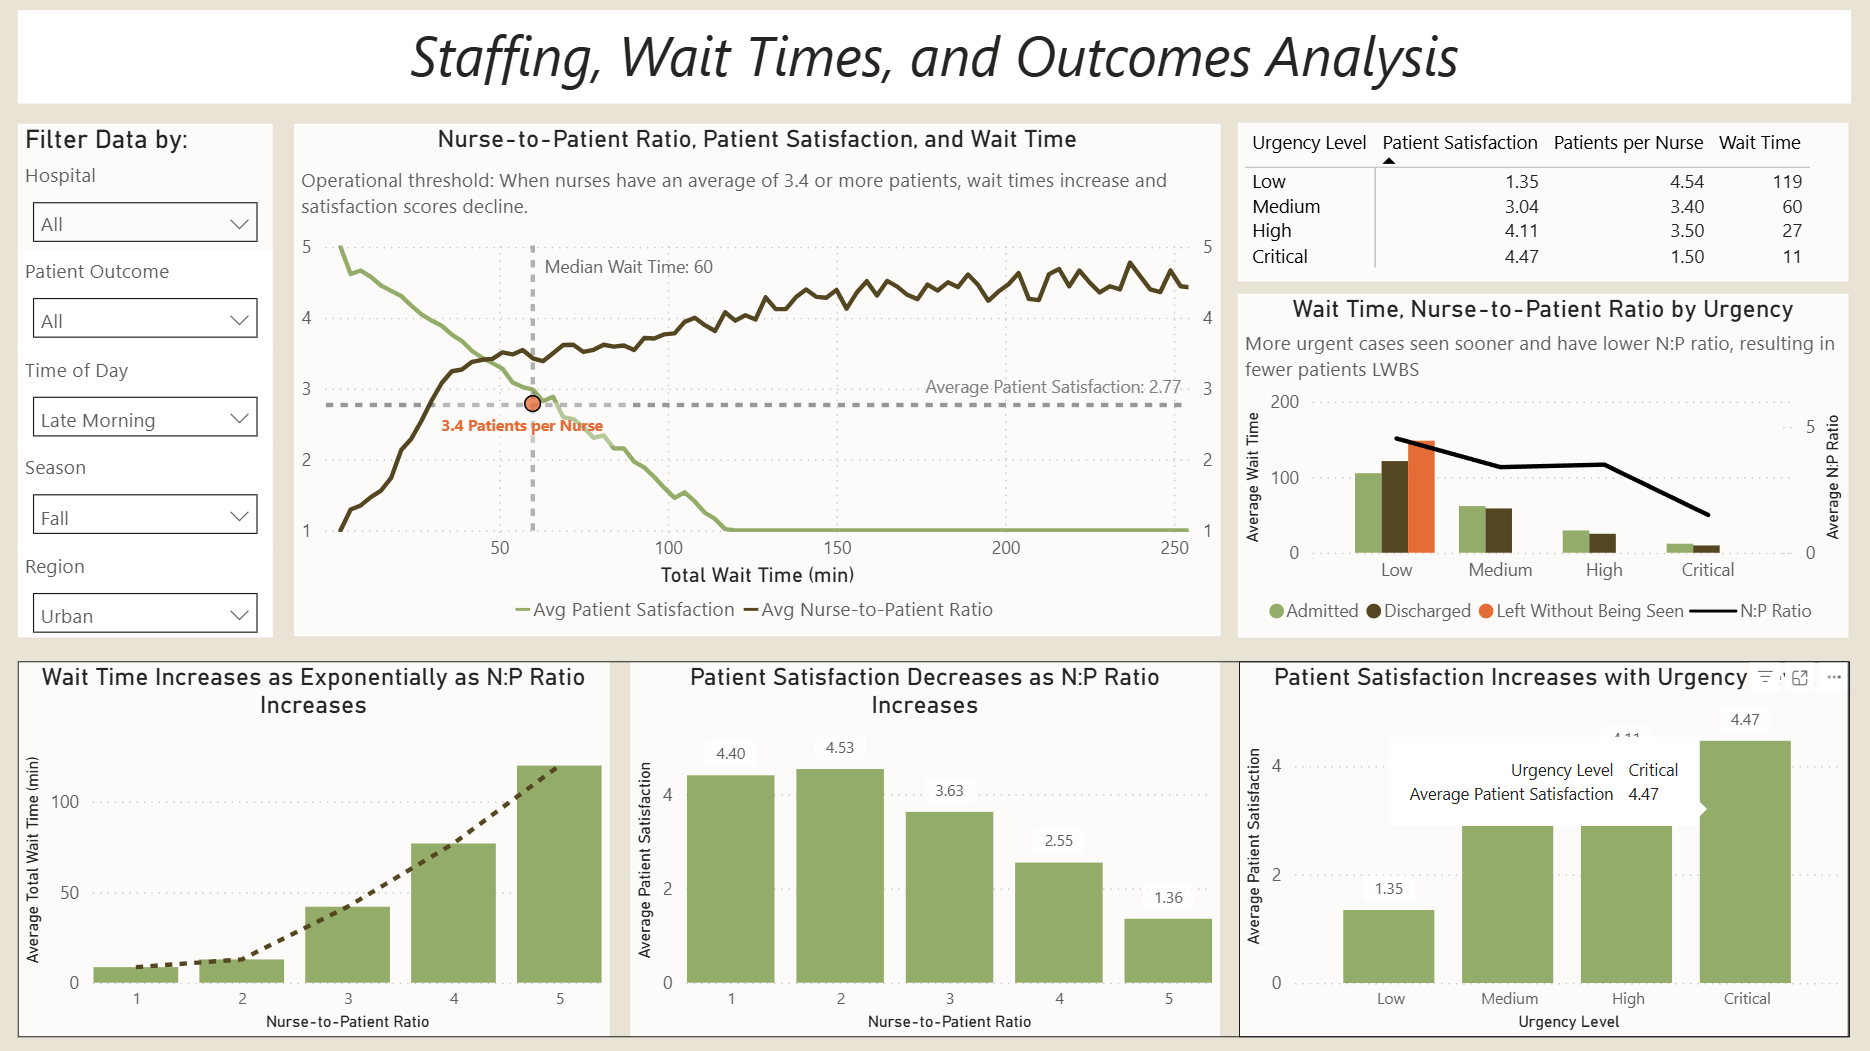

This screenshot's page, from the dashboard's own definition file:
{"tool":"powerbi","page":{"name":"Analysis","canvas":[1280,720],"ordinal":1},"visuals":[{"type":"lineClusteredColumnComboChart","title":"Wait Time, Nurse-to-Patient  Ratio by Urgency","fields":{"Category":["ER Wait Time Dataset.Urgency Level"],"Y":["Avg(ER Wait Time Dataset.Total Wait Time (min))"],"Series":["ER Wait Time Dataset.Patient Outcome"],"Y2":["Avg(ER Wait Time Dataset.Patients per Nurse)"]},"box":[847.1,200.7,417.6,235.3],"z":0},{"type":"lineClusteredColumnComboChart","title":"Patient Satisfaction Decreases as N:P Ratio Increases","fields":{"Category":["ER Wait Time Dataset.Nurse-to-Patient Ratio"],"Y":["Avg(ER Wait Time Dataset.Patient Satisfaction)"]},"box":[431.6,452.2,403,256.6],"z":0,"group":"g2"},{"type":"textbox","box":[12.5,6.6,1253.7,64],"z":1000},{"type":"pivotTable","title":"Avg N:P Ratio by Urgency Level","fields":{"Values":["Avg(ER Wait Time Dataset.Patient Satisfaction)","Avg(ER Wait Time Dataset.Patients per Nurse)","Avg(ER Wait Time Dataset.Total Wait Time (min))"],"Rows":["ER Wait Time Dataset.Urgency Level"]},"box":[846.7,84.1,417.8,108.4],"z":2000},{"type":"lineChart","title":"Nurse-to-Patient Ratio, Patient Satisfaction, and Wait Time","fields":{"Category":["ER Wait Time Dataset.Total Wait Time (min) (bins) 2"],"Y":["Avg(ER Wait Time Dataset.Patient Satisfaction)"],"Y2":["Avg(ER Wait Time Dataset.Nurse-to-Patient Ratio)"]},"box":[202.1,84.9,633.8,350.7],"z":2000,"group":"g1"},{"type":"group","id":"g1","title":"Group 1","box":[202.1,84.9,633.8,350.7],"z":3000},{"type":"lineClusteredColumnComboChart","title":"Wait Time Increases as Exponentially as N:P Ratio Increases","fields":{"Category":["ER Wait Time Dataset.Nurse-to-Patient Ratio"],"Y":["Avg(ER Wait Time Dataset.Total Wait Time (min))"],"Y2":["Avg(ER Wait Time Dataset.Total Wait Time (min))"]},"box":[12.5,452.2,404.5,256.6],"z":3000,"group":"g2"},{"type":"group","id":"g2","title":"Group 2","box":[12.5,452,1252.8,257],"z":4000},{"type":"lineClusteredColumnComboChart","title":"Patient Satisfaction Increases with Urgency Level","fields":{"Y":["Avg(ER Wait Time Dataset.Patient Satisfaction)"],"Category":["ER Wait Time Dataset.Urgency Level"]},"box":[847.5,452,417.8,257],"z":4000,"group":"g2"},{"type":"group","id":"g3","title":"Group 3","box":[12.5,84.6,174.3,351.5],"z":5000},{"type":"slicer","fields":{"Values":["ER Wait Time Dataset.Time of Day"]},"box":[12.5,238.3,174.3,66.9],"z":5000,"group":"g3"},{"type":"slicer","title":"Filter Data by:","fields":{"Values":["ER Wait Time Dataset.Hospital Name"]},"box":[12.5,84.6,174.3,86],"z":6000,"group":"g3"},{"type":"slicer","fields":{"Values":["ER Wait Time Dataset.Patient Outcome"]},"box":[12.5,170.6,174.3,67.6],"z":7000,"group":"g3"},{"type":"slicer","fields":{"Values":["ER Wait Time Dataset.Season"]},"box":[12.5,305.2,174.3,67.6],"z":9000,"group":"g3"},{"type":"slicer","fields":{"Values":["ER Wait Time Dataset.Region"]},"box":[12.5,372.8,174.3,63.2],"z":11000,"group":"g3"},{"type":"textbox","box":[297.8,275.8,133.8,29.4],"z":12000,"group":"g1"},{"type":"shape","box":[359,270,11.8,11.8],"z":13000,"group":"g1"}]}

Visuals, with their boxes in screenshot pixels (x1, y1, x2, y2), scaled from the page's 1280x720 canvas onto the 1870x1051 screenshot:
"Wait Time, Nurse-to-Patient  Ratio by Urgency" lineClusteredColumnComboChart: [1238,293,1848,636]
"Patient Satisfaction Decreases as N:P Ratio Increases" lineClusteredColumnComboChart: [631,660,1219,1035]
textbox: [18,10,1850,103]
"Avg N:P Ratio by Urgency Level" pivotTable: [1237,123,1847,281]
"Nurse-to-Patient Ratio, Patient Satisfaction, and Wait Time" lineChart: [295,124,1221,636]
"Group 1" group: [295,124,1221,636]
"Wait Time Increases as Exponentially as N:P Ratio Increases" lineClusteredColumnComboChart: [18,660,609,1035]
"Group 2" group: [18,660,1849,1035]
"Patient Satisfaction Increases with Urgency Level" lineClusteredColumnComboChart: [1238,660,1849,1035]
"Group 3" group: [18,123,273,637]
slicer - ER Wait Time Dataset.Time of Day: [18,348,273,446]
"Filter Data by:" slicer: [18,123,273,249]
slicer - ER Wait Time Dataset.Patient Outcome: [18,249,273,348]
slicer - ER Wait Time Dataset.Season: [18,446,273,544]
slicer - ER Wait Time Dataset.Region: [18,544,273,636]
textbox: [435,403,631,446]
shape: [524,394,542,411]
